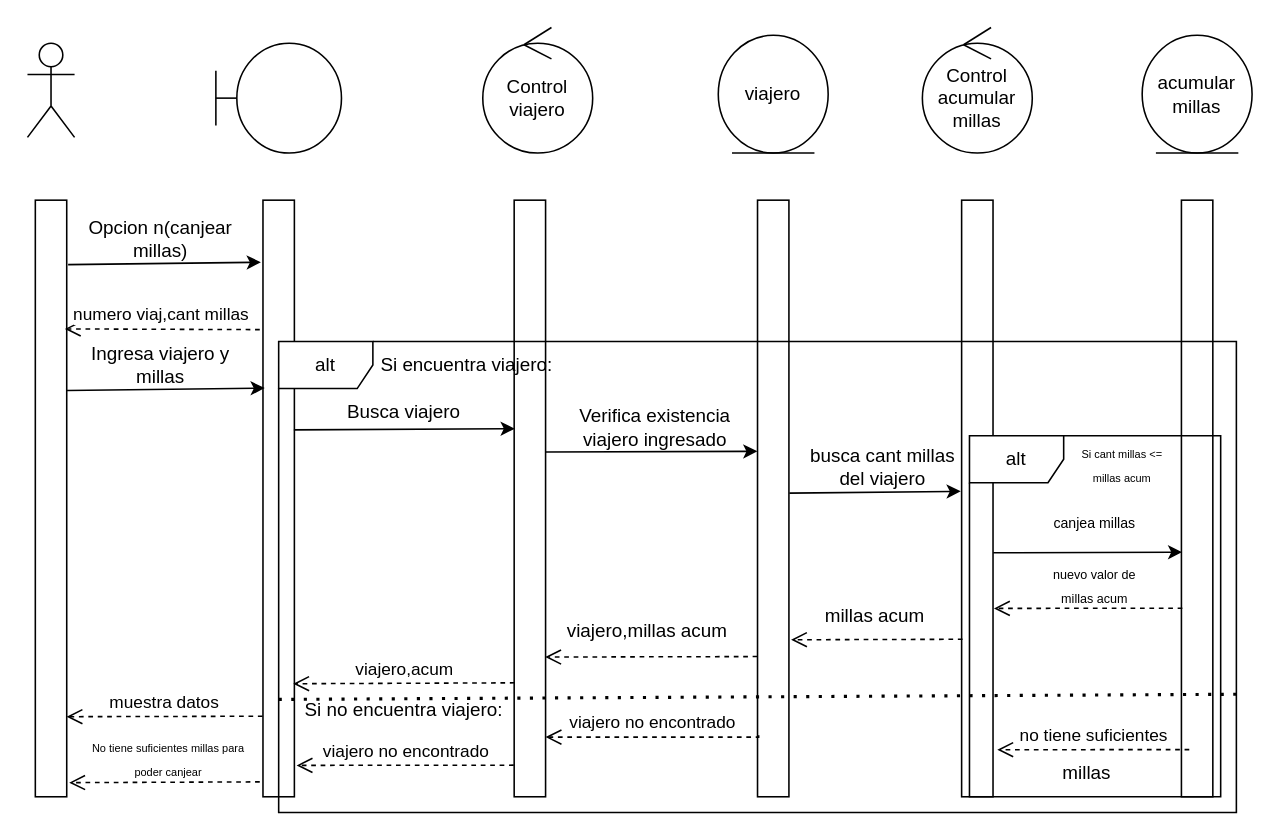
This 1280x840 diagram has some shape labels left out. Each missing label, with the centre of its shape:
Actor: point 50,89
Interfaz: point 277,97
